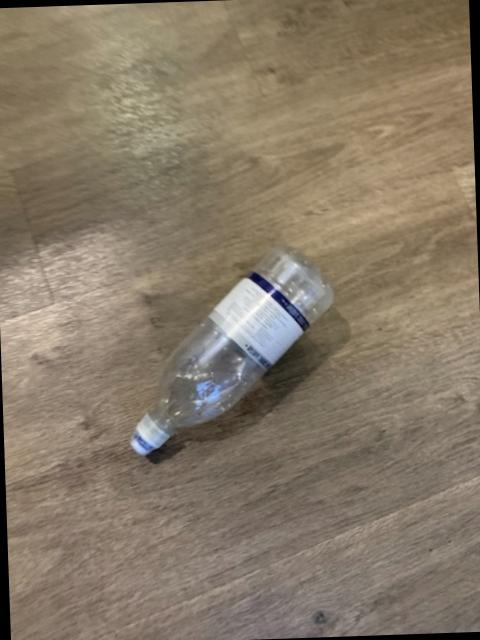plastic: (133, 246, 335, 453)
